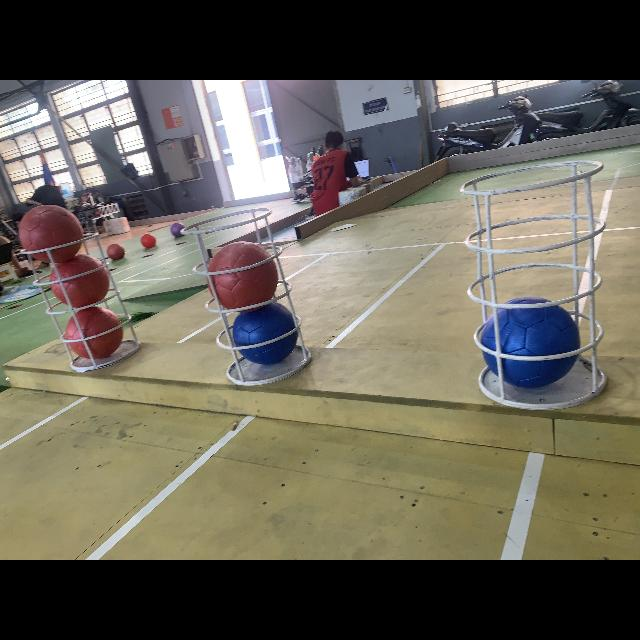B: (480, 295, 582, 395), (231, 302, 300, 364)
R: (205, 240, 280, 313), (19, 204, 84, 263), (50, 254, 111, 307), (65, 306, 125, 359)
